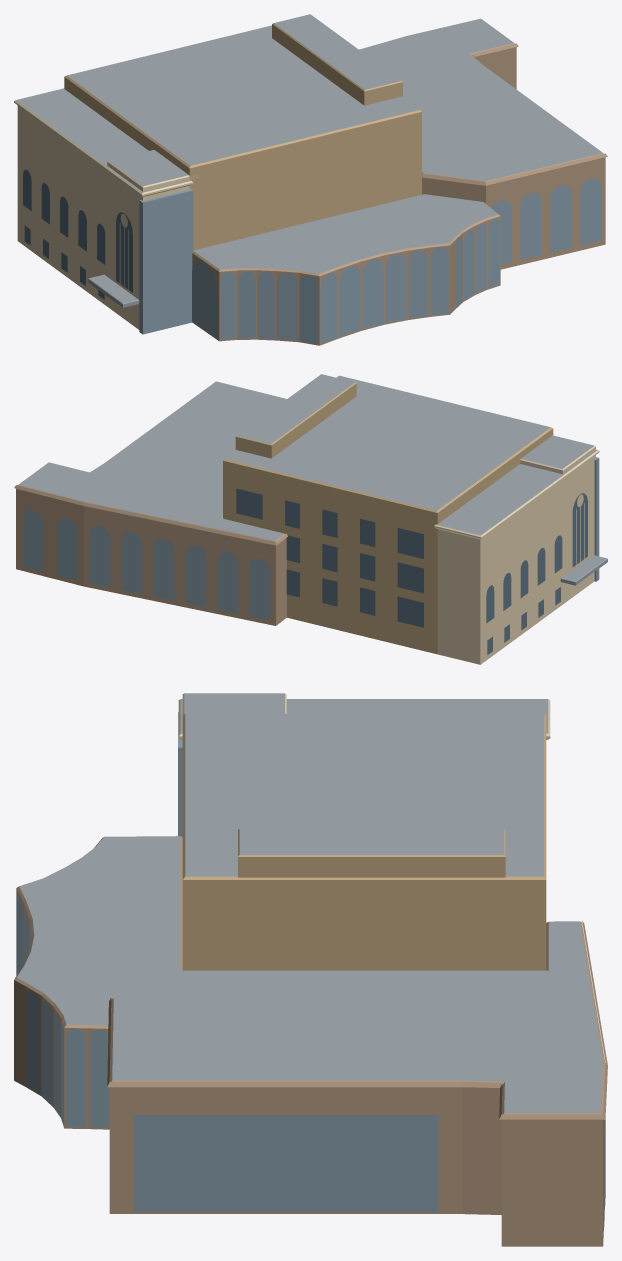
Rendered from stl-powell-hall.glb.
The picture shows the model from 3 angles, top to bottom: view 1: azimuth 30°, elevation 25°; view 2: azimuth 150°, elevation 25°; view 3: azimuth 270°, elevation 25°; orthographic projection. The views are drawn at different scales.
Parts seen in each view (by area): view 1: Powell Hall at the Jack C. Taylor Music Center; view 2: Powell Hall at the Jack C. Taylor Music Center; view 3: Powell Hall at the Jack C. Taylor Music Center.
Boxes of the visible parts, x1,y1,x2,y2 form: Powell Hall at the Jack C. Taylor Music Center: (14, 14, 607, 345); Powell Hall at the Jack C. Taylor Music Center: (14, 374, 607, 664); Powell Hall at the Jack C. Taylor Music Center: (14, 693, 607, 1246).
Size of the model in its own units: 104 by 33.5 by 73.2.
